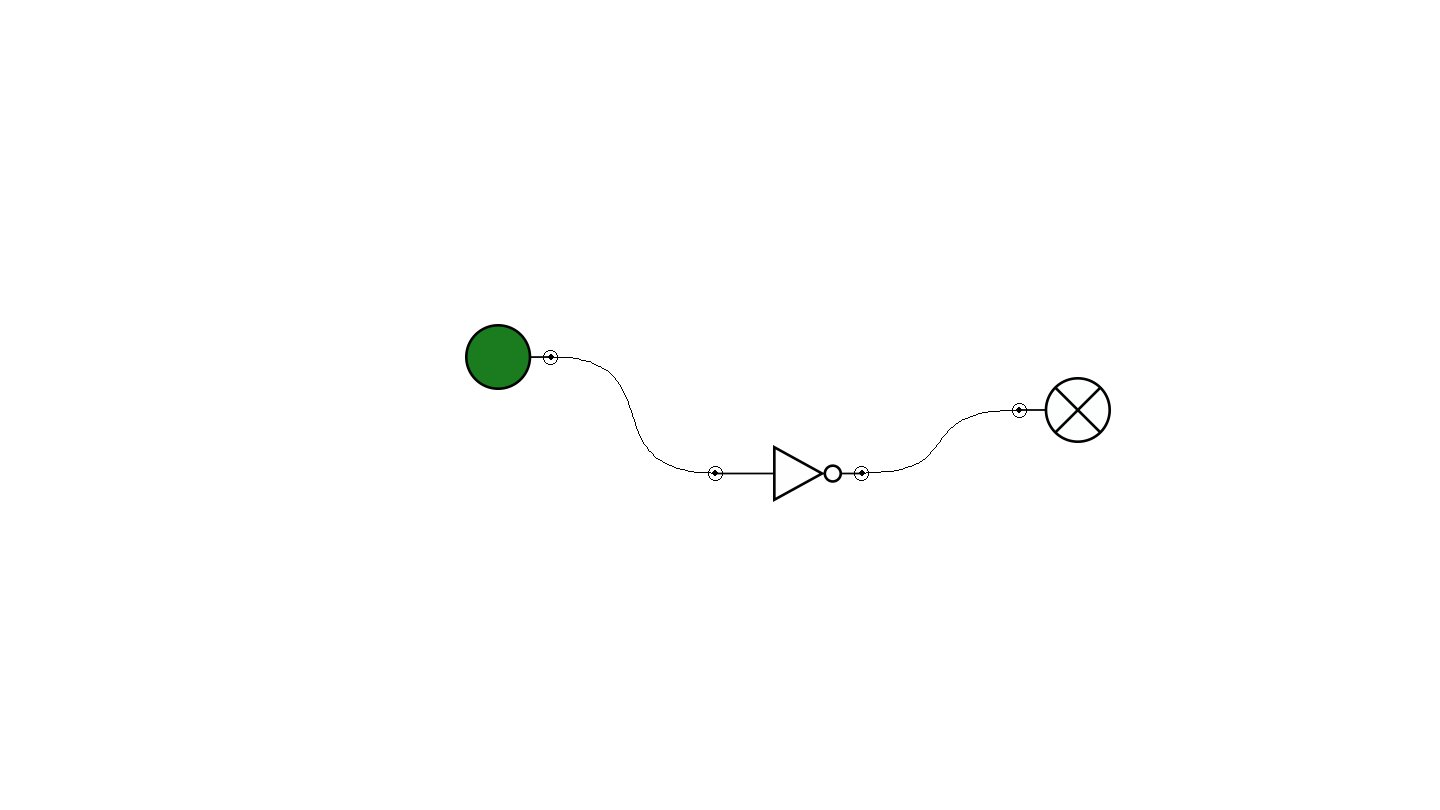bulb: (1012, 377, 1111, 443)
not: (708, 445, 869, 502)
switch_True: (465, 324, 558, 390)
